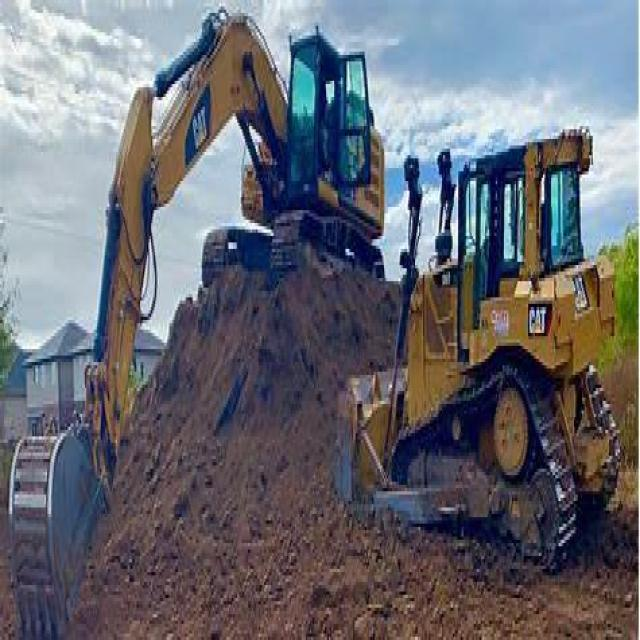buldozerpayloadergrader: (342, 126, 618, 611)
excavator: (12, 13, 387, 591)
